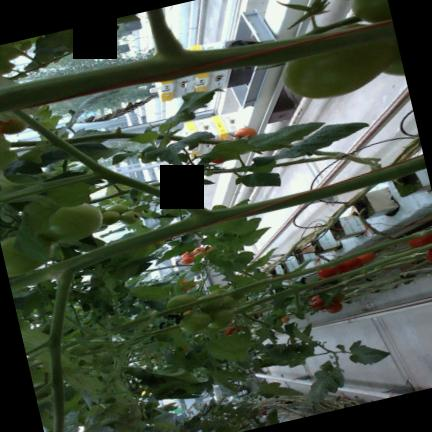6kp_petiole: (98, 7, 253, 91), (15, 247, 109, 329), (151, 187, 250, 240), (232, 302, 264, 323), (167, 174, 188, 195)
MainStem: (9, 154, 426, 291), (0, 20, 394, 112), (155, 227, 432, 318), (229, 242, 432, 313), (63, 131, 142, 143), (89, 189, 131, 203), (149, 174, 188, 186)
tomato: (284, 38, 398, 98), (43, 203, 102, 241), (8, 244, 53, 276), (350, 0, 391, 22), (179, 311, 211, 332), (166, 293, 195, 313), (194, 293, 223, 311), (408, 227, 432, 247), (0, 117, 28, 134), (208, 309, 233, 328), (383, 55, 404, 75), (338, 257, 362, 272), (233, 126, 256, 139), (317, 266, 341, 278), (120, 210, 140, 224), (102, 210, 120, 225), (105, 203, 129, 213), (357, 251, 375, 263), (220, 295, 235, 309), (0, 236, 15, 249), (326, 301, 342, 313), (311, 298, 324, 309), (223, 326, 238, 335), (180, 255, 194, 264), (192, 246, 205, 254), (334, 293, 345, 302), (210, 288, 226, 294), (280, 315, 290, 323), (426, 248, 432, 261), (211, 157, 223, 163), (310, 294, 320, 301), (150, 357, 159, 363), (181, 251, 190, 257), (206, 247, 213, 251)
